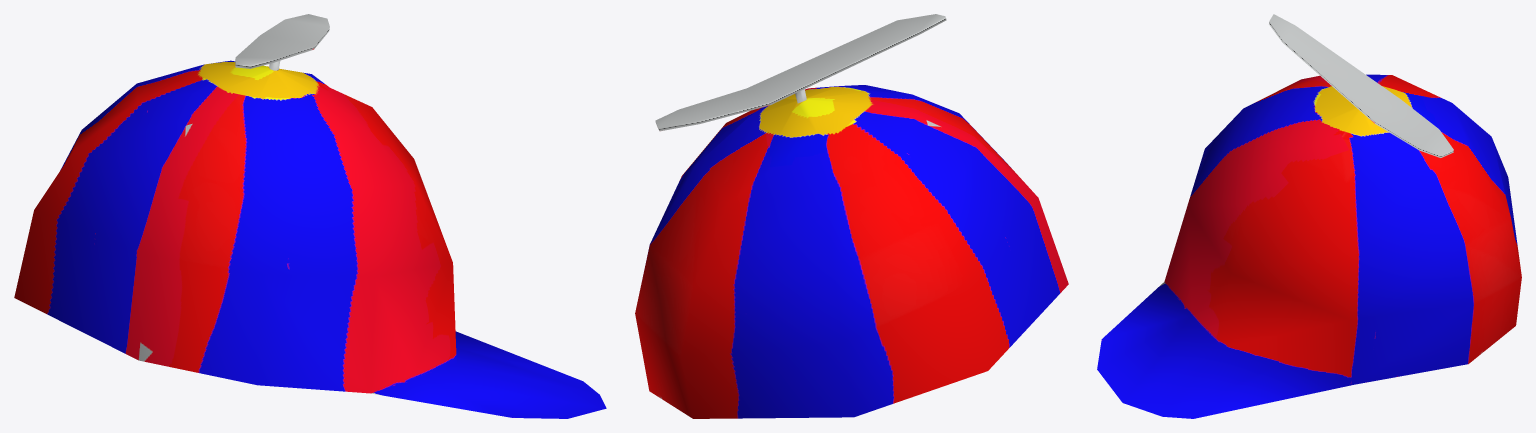
File: scoobert_hat_low.glb
3 views of the same model, side by side, from view 1: azimuth 30°, elevation 25°; view 2: azimuth 150°, elevation 25°; view 3: azimuth 270°, elevation 25° (orthographic). The views are drawn at different scales.
Parts seen in each view (by area): view 1: ScooberHat_Low; view 2: ScooberHat_Low; view 3: ScooberHat_Low.
Boxes of the visible parts, x1,y1,x2,y2 form: ScooberHat_Low: [14, 14, 606, 418]; ScooberHat_Low: [635, 14, 1068, 418]; ScooberHat_Low: [1097, 14, 1521, 418].
Size of the model in its own units: 0.0142 by 0.0112 by 0.015.
1 material, 1 textured.
